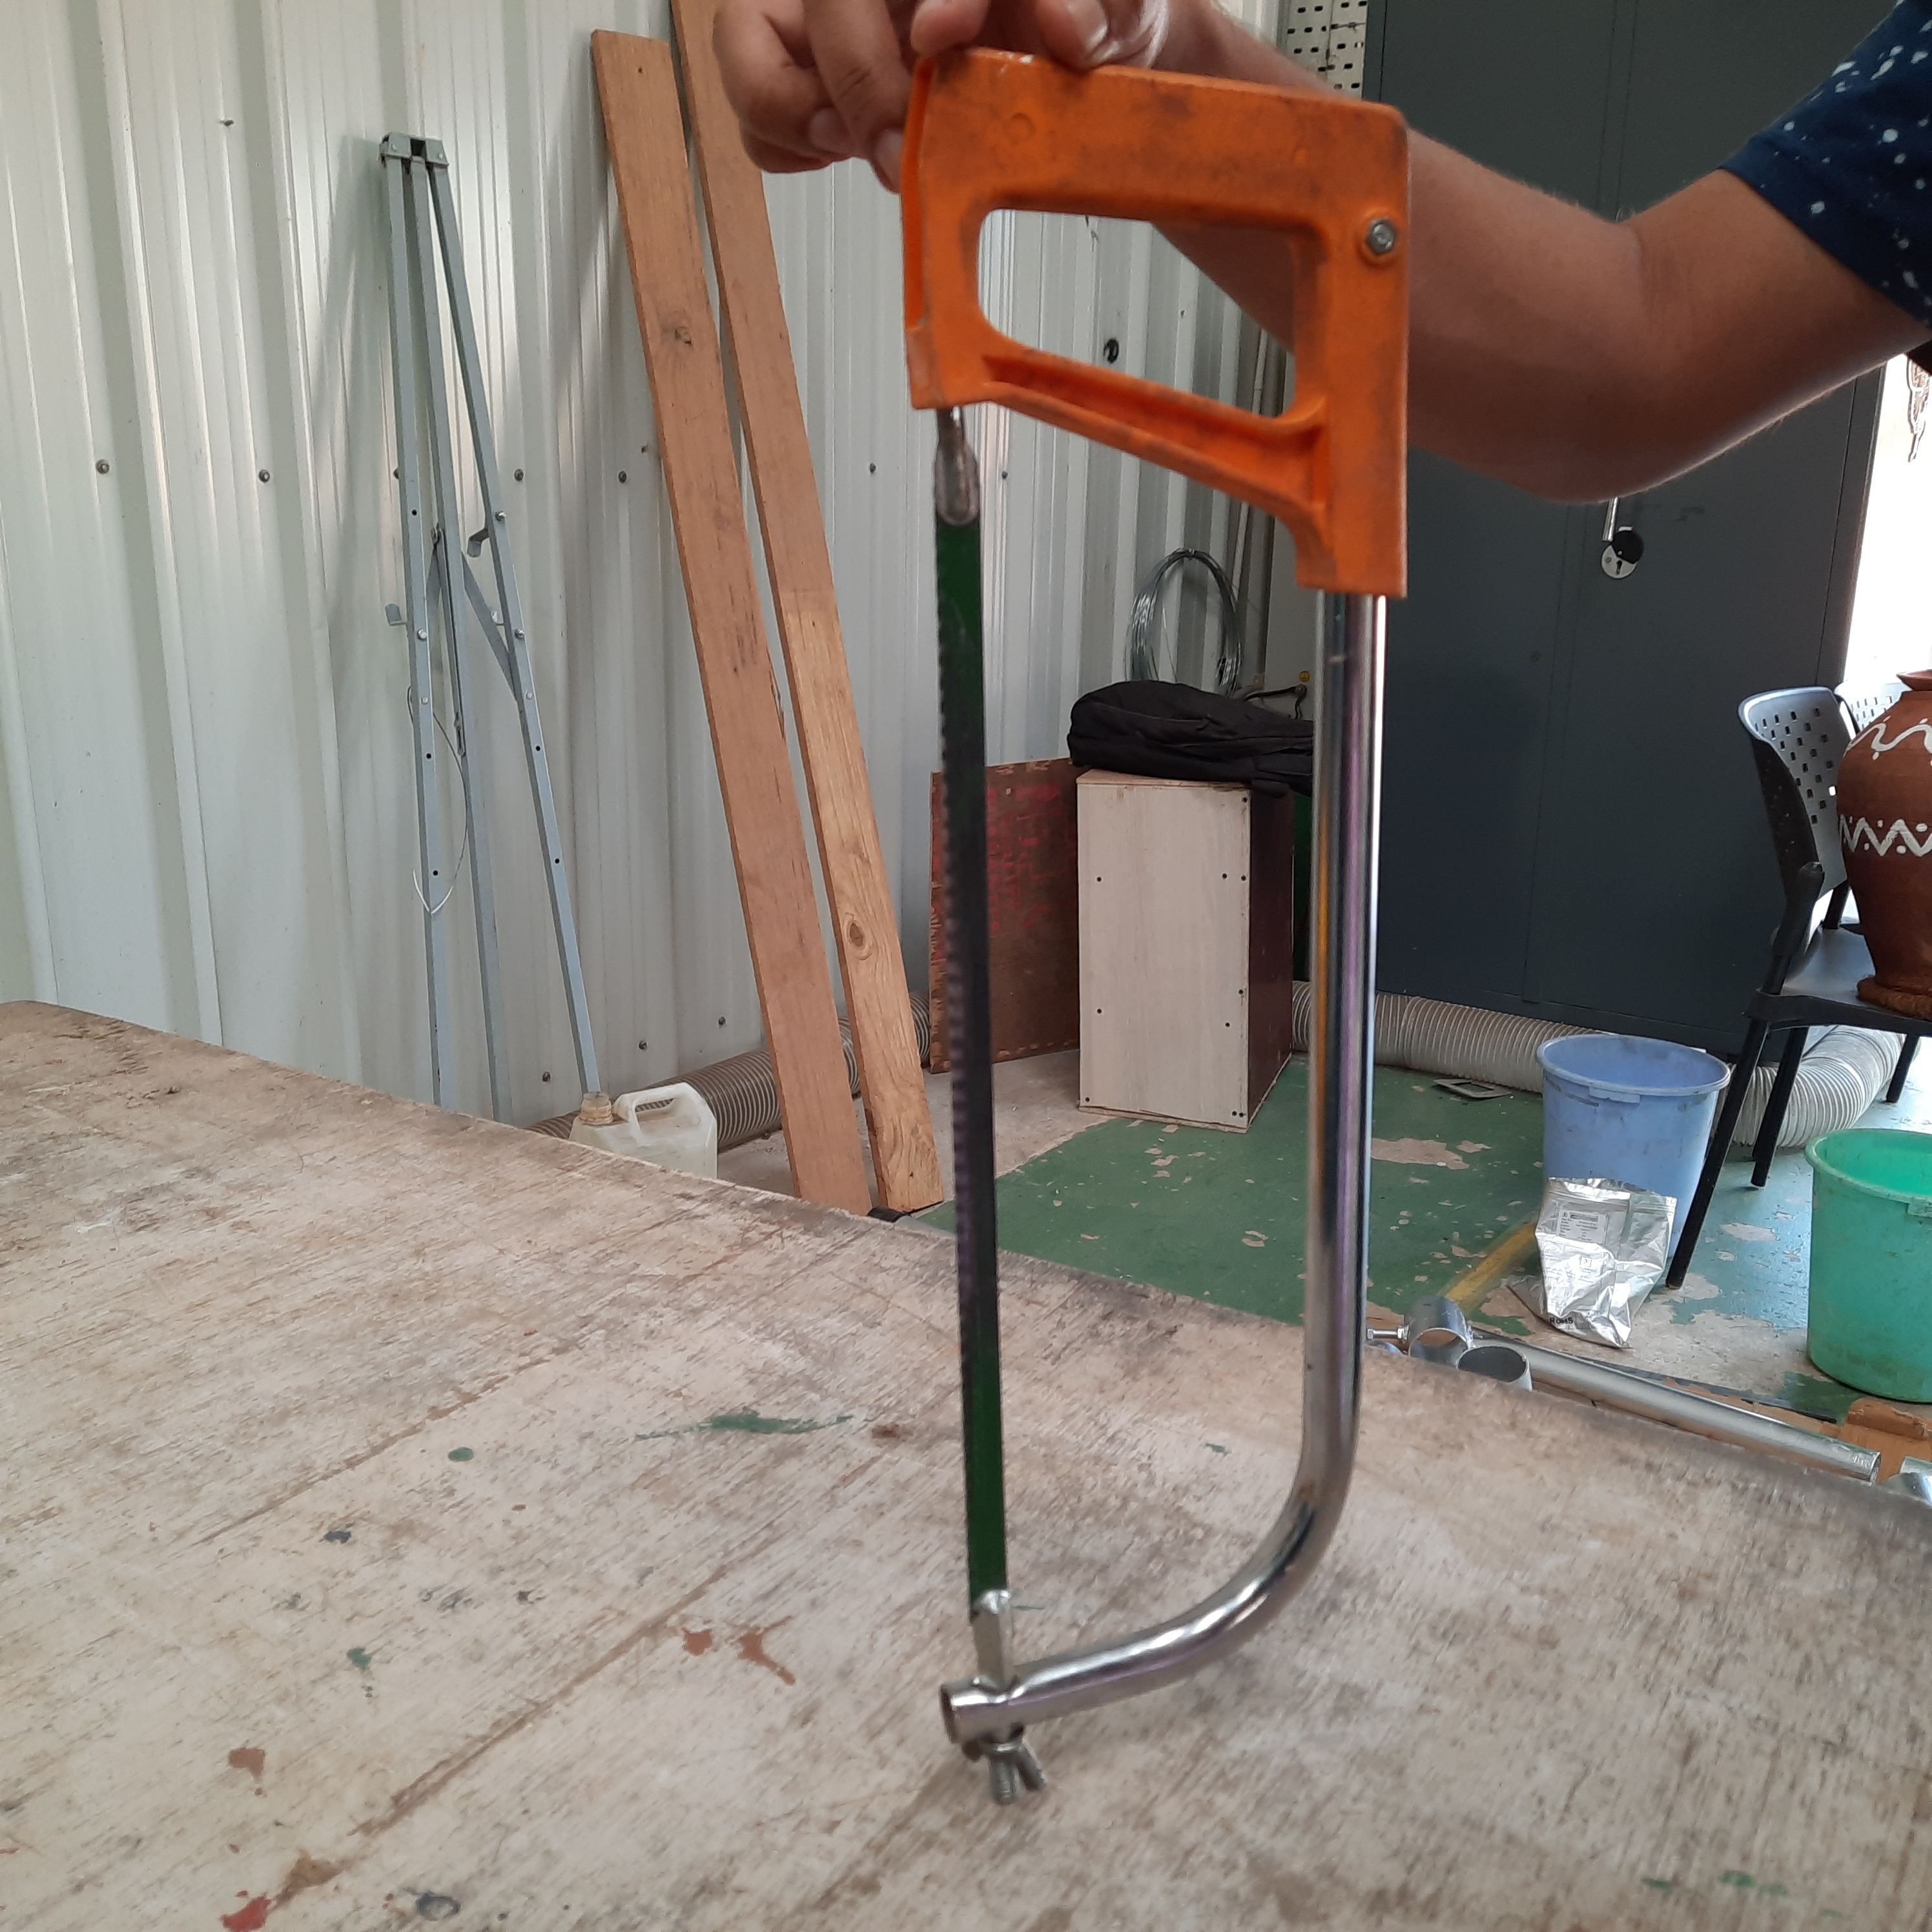Hexaframe: (897, 16, 1396, 1769)
